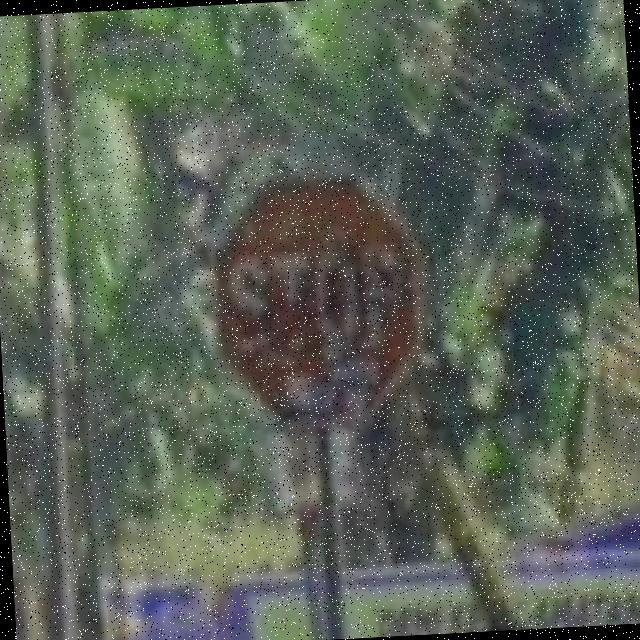Stop: (214, 172, 422, 438)
